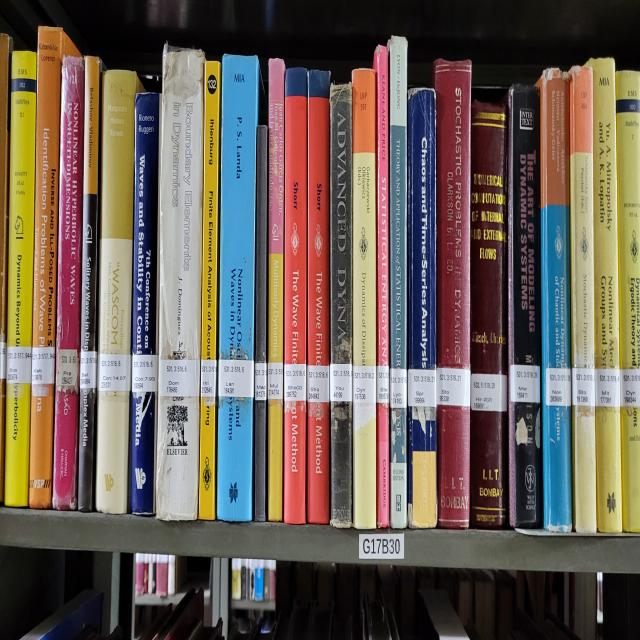Book: (29, 27, 79, 509), (156, 46, 205, 519), (218, 54, 260, 522), (432, 60, 471, 528), (470, 100, 508, 528), (4, 51, 38, 506), (539, 68, 572, 533), (590, 60, 622, 533), (508, 84, 542, 528), (52, 57, 85, 509), (408, 89, 438, 528), (130, 92, 160, 514), (570, 65, 596, 533), (615, 70, 640, 533), (352, 70, 376, 530), (284, 68, 308, 522), (199, 62, 221, 519), (78, 57, 100, 511), (308, 70, 330, 522), (388, 35, 408, 530), (330, 84, 352, 528), (268, 60, 285, 522), (374, 46, 390, 528), (254, 124, 268, 522), (99, 238, 132, 354)
Label: (159, 360, 200, 398), (471, 373, 508, 411), (219, 360, 254, 398), (436, 368, 470, 406), (99, 354, 130, 392), (510, 365, 540, 403), (408, 368, 436, 406), (595, 368, 620, 409), (132, 354, 158, 392), (545, 368, 571, 406), (6, 346, 31, 384), (31, 346, 55, 384), (352, 365, 376, 403), (571, 368, 595, 406), (330, 363, 352, 403), (56, 349, 78, 387), (308, 365, 330, 403), (620, 368, 640, 409), (284, 363, 306, 400), (80, 349, 98, 390), (390, 368, 408, 409), (200, 360, 216, 398), (268, 363, 284, 400), (376, 365, 389, 403), (255, 363, 266, 400)
